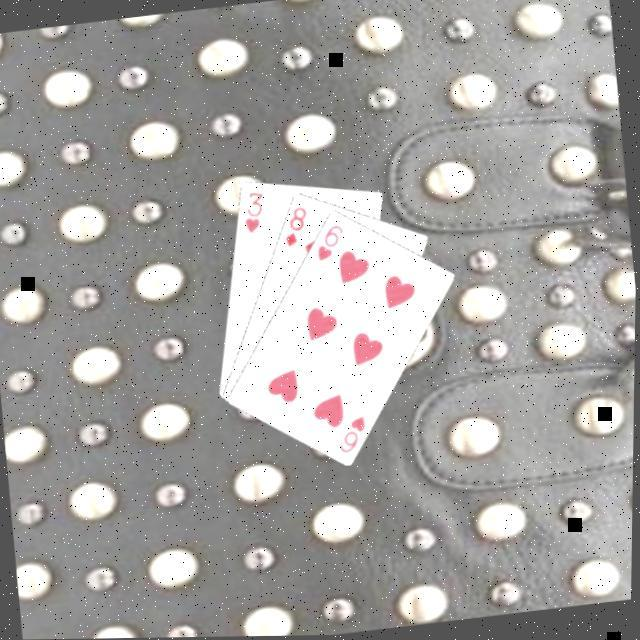3H: (240, 185, 272, 235)
6H: (312, 218, 351, 263), (335, 410, 374, 455)
8D: (280, 200, 316, 248)
